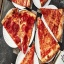pepperoni: (3, 20, 21, 38), (24, 13, 33, 29)
pizza: (34, 8, 63, 62), (4, 8, 34, 51)
